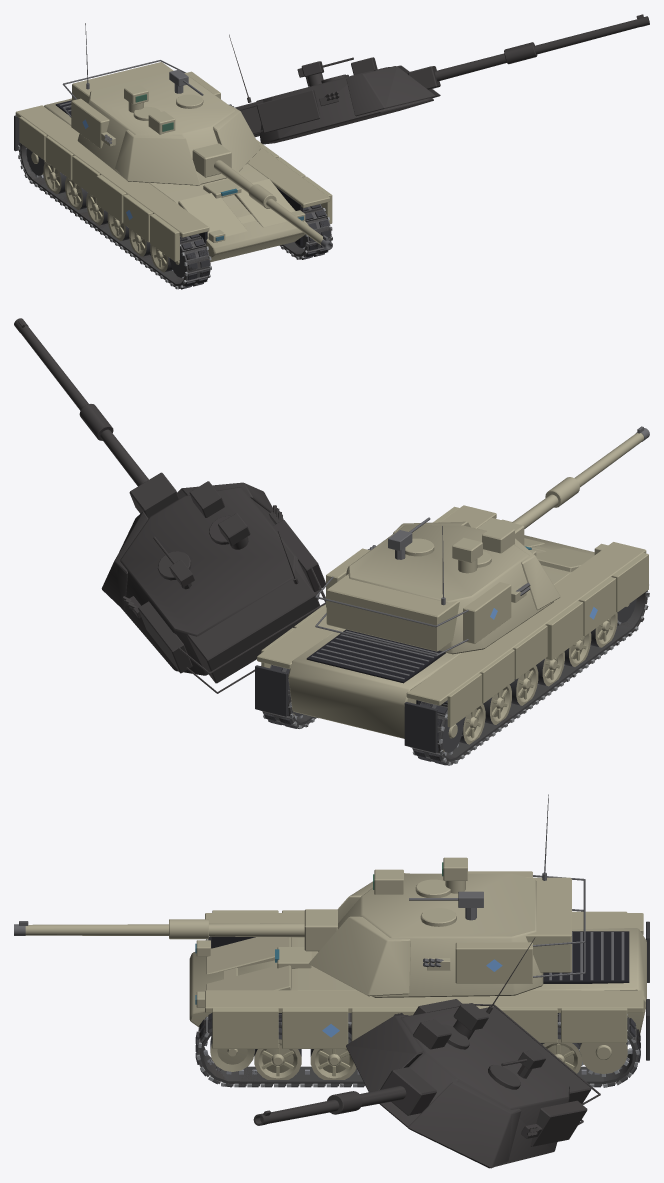
File: tank__vt_4_haider.glb
The picture shows the model from 3 angles, top to bottom: view 1: azimuth 30°, elevation 25°; view 2: azimuth 150°, elevation 25°; view 3: azimuth 270°, elevation 25°; orthographic projection. The views are drawn at different scales.
Visible parts, largest first — view 1: Hull_Mesh, Turret_Mesh, Wreck, Track_L_Mesh, Gun_Mesh, Track_R_Mesh, CITV_Mesh, Gunner_Sight_Mesh, Wheel_L0_Mesh, Wheel_L1_Mesh, Wheel_L2_Mesh; view 2: Wreck, Hull_Mesh, Turret_Mesh, Track_L_Mesh, Gun_Mesh, CITV_Mesh, Wheel_L2_Mesh, Track_R_Mesh, Wheel_L1_Mesh, Gunner_Sight_Mesh, Wheel_L0_Mesh, Wheel_L3_Mesh; view 3: Hull_Mesh, Wreck, Turret_Mesh, Gun_Mesh, Track_R_Mesh, Wheel_R5_Mesh, Sprocket_R_Mesh, Wheel_R4_Mesh, Idler_R_Mesh, CITV_Mesh, Gunner_Sight_Mesh, Wheel_R0_Mesh (+3 smaller).
Part boxes in pixels (left/top/right/bottom): Hull_Mesh: left=14, top=98, right=332, bottom=262; Turret_Mesh: left=62, top=60, right=260, bottom=185; Wreck: left=18, top=14, right=649, bottom=288; Track_L_Mesh: left=17, top=139, right=211, bottom=289; Gun_Mesh: left=192, top=143, right=332, bottom=250; Track_R_Mesh: left=279, top=204, right=332, bottom=259; CITV_Mesh: left=124, top=84, right=148, bottom=112; Gunner_Sight_Mesh: left=148, top=111, right=175, bottom=134; Wheel_L0_Mesh: left=43, top=161, right=66, bottom=194; Wheel_L1_Mesh: left=65, top=177, right=87, bottom=209; Wheel_L2_Mesh: left=86, top=193, right=107, bottom=225; Wreck: left=14, top=318, right=649, bottom=763; Hull_Mesh: left=255, top=505, right=648, bottom=753; Turret_Mesh: left=315, top=521, right=560, bottom=656; Track_L_Mesh: left=410, top=590, right=649, bottom=765; Gun_Mesh: left=477, top=426, right=649, bottom=545; CITV_Mesh: left=452, top=537, right=482, bottom=573; Wheel_L2_Mesh: left=509, top=665, right=538, bottom=705; Track_R_Mesh: left=260, top=664, right=316, bottom=728; Wheel_L1_Mesh: left=483, top=685, right=511, bottom=724; Gunner_Sight_Mesh: left=482, top=525, right=514, bottom=553; Wheel_L0_Mesh: left=459, top=703, right=485, bottom=744; Wheel_L3_Mesh: left=536, top=651, right=564, bottom=686; Hull_Mesh: left=189, top=910, right=649, bottom=1060; Wreck: left=197, top=937, right=640, bottom=1168; Turret_Mesh: left=309, top=871, right=585, bottom=997; Gun_Mesh: left=14, top=909, right=337, bottom=951; Track_R_Mesh: left=195, top=1013, right=640, bottom=1087; Wheel_R5_Mesh: left=254, top=1028, right=301, bottom=1079; Sprocket_R_Mesh: left=579, top=1039, right=631, bottom=1076; Wheel_R4_Mesh: left=310, top=1032, right=356, bottom=1079; Idler_R_Mesh: left=210, top=1035, right=254, bottom=1071; CITV_Mesh: left=442, top=857, right=467, bottom=893; Gunner_Sight_Mesh: left=373, top=869, right=403, bottom=894; Wheel_R0_Mesh: left=540, top=1027, right=581, bottom=1073.
Size of what is drawn, in the model's own units: 11.6 by 3.79 by 9.85.
